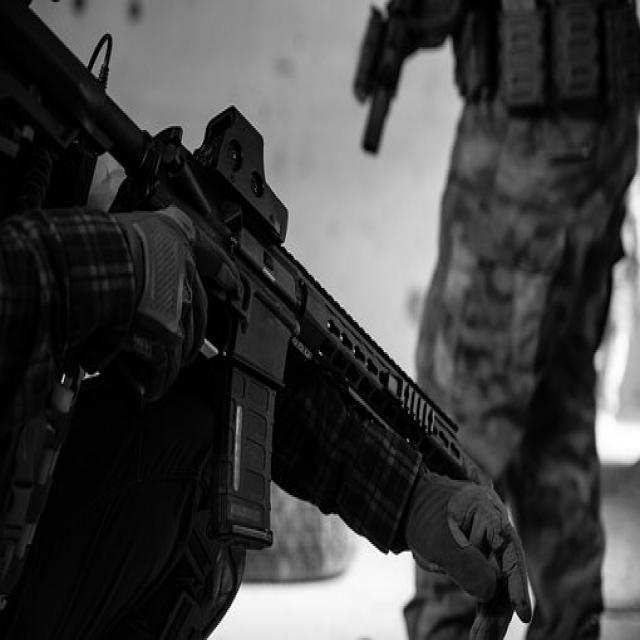m16: (12, 6, 530, 578)
